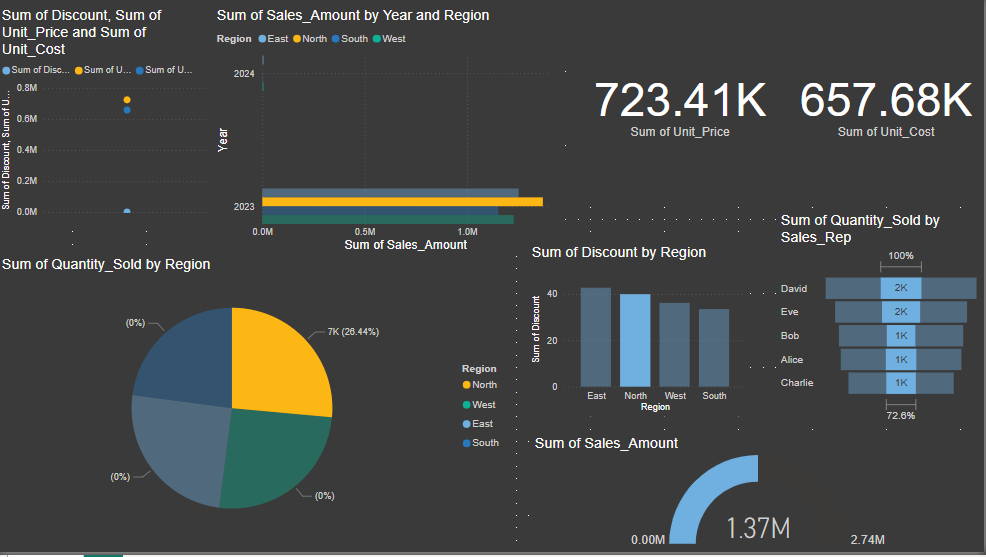

The dashboard page shown, as its layout file describes it:
{"tool":"powerbi","page":{"name":"Page 1","canvas":[1280,720],"ordinal":0},"visuals":[{"type":"clusteredBarChart","fields":{"Category":["sales_data.Sale_Date.Variation.Date Hierarchy.Year","sales_data.Sale_Date.Variation.Date Hierarchy.Quarter","sales_data.Sale_Date.Variation.Date Hierarchy.Month","sales_data.Sale_Date.Variation.Date Hierarchy.Day"],"Series":["sales_data.Region"],"Y":["sales_data.Sales_Amount"]},"box":[279.3,13.1,455.3,322.9],"z":0},{"type":"lineChart","fields":{"Y":["sales_data.Discount","sales_data.Unit_Price","sales_data.Unit_Cost"]},"box":[0,13.1,279.3,279.3],"z":1},{"type":"pieChart","fields":{"Category":["sales_data.Region"],"Y":["sales_data.Quantity_Sold"]},"box":[0,336,672,373.8],"z":2},{"type":"card","fields":{"Values":["sales_data.Unit_Cost"]},"box":[1025.5,13.1,254.5,248.7],"z":3},{"type":"card","fields":{"Values":["sales_data.Unit_Price"]},"box":[744.7,13.1,280.7,248.7],"z":4},{"type":"funnel","fields":{"Category":["sales_data.Sales_Rep"],"Y":["sales_data.Quantity_Sold"]},"box":[1010.9,279.3,269.1,279.3],"z":5},{"type":"gauge","fields":{"Y":["sales_data.Sales_Amount"]},"box":[690.9,568.7,589.1,151.3],"z":6},{"type":"columnChart","fields":{"Y":["sales_data.Discount"],"Category":["sales_data.Region"]},"box":[688,320,288,224],"z":7}]}

Visuals, with their boxes in screenshot pixels (x1, y1, x2, y2), scaled from the page's 1280x720 canvas onto the 986x557 screenshot:
clusteredBarChart - sales_data.Sale_Date.Variation.Date Hierarchy.Year x sales_data.Sale_Date.Variation.Date Hierarchy.Quarter: left=215, top=10, right=566, bottom=260
lineChart - sales_data.Discount x sales_data.Unit_Price: left=0, top=10, right=215, bottom=226
pieChart - sales_data.Region x sales_data.Quantity_Sold: left=0, top=260, right=518, bottom=549
card - sales_data.Unit_Cost: left=790, top=10, right=985, bottom=203
card - sales_data.Unit_Price: left=574, top=10, right=790, bottom=203
funnel - sales_data.Sales_Rep x sales_data.Quantity_Sold: left=779, top=216, right=985, bottom=432
gauge - sales_data.Sales_Amount: left=532, top=440, right=985, bottom=556
columnChart - sales_data.Discount x sales_data.Region: left=530, top=248, right=752, bottom=421
